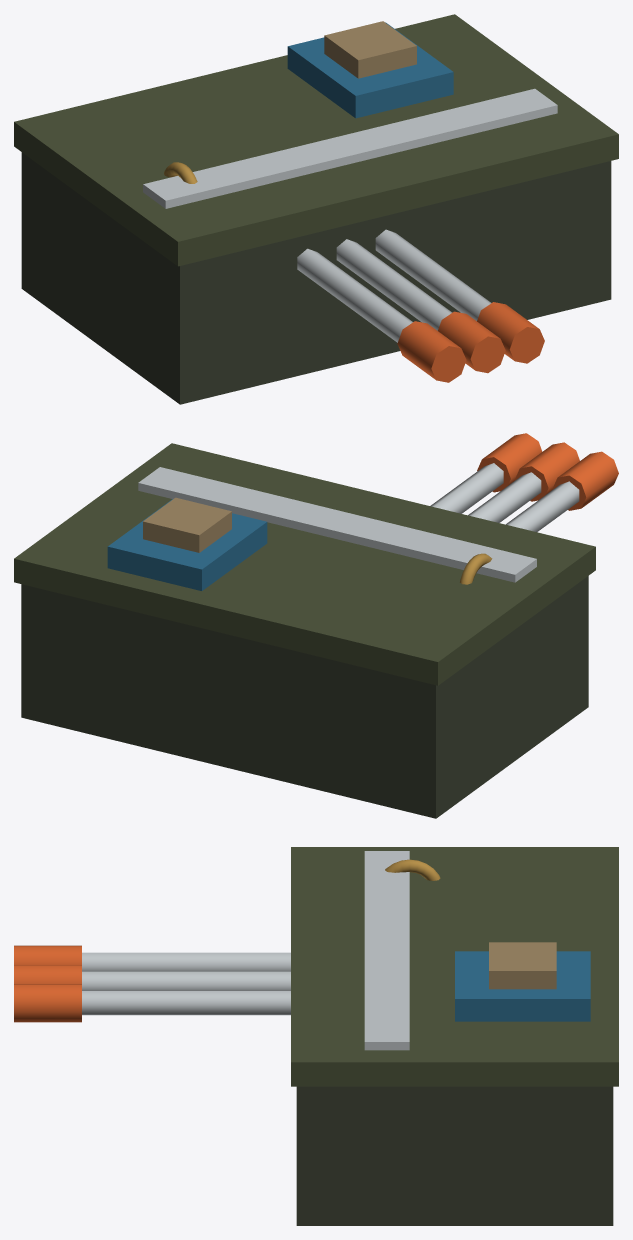
File: defuse.glb
The picture shows the model from 3 angles, top to bottom: view 1: azimuth 30°, elevation 25°; view 2: azimuth 150°, elevation 25°; view 3: azimuth 270°, elevation 25°; orthographic projection. The views are drawn at different scales.
Visible parts, largest first — view 1: defuse; view 2: defuse; view 3: defuse.
Boxes of the visible parts, x1,y1,x2,y2 form: defuse: (14,14,618,404); defuse: (14,433,618,818); defuse: (14,847,618,1225).
Bounding box in the file's own units: 0.225 × 0.101 × 0.2675.
